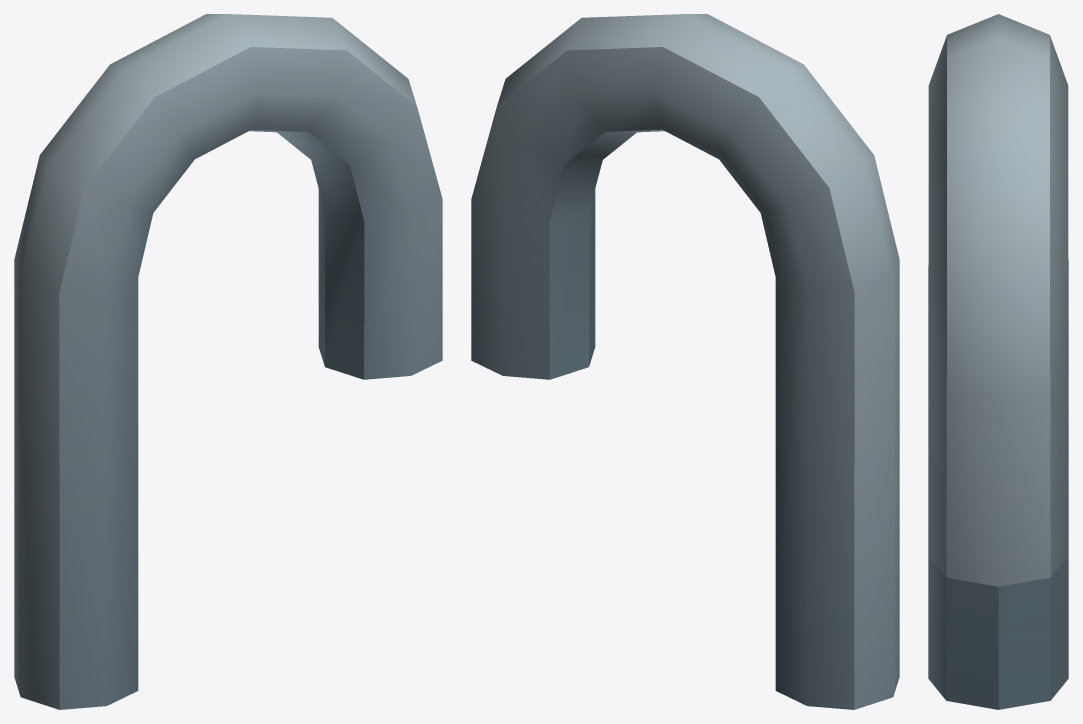
File: lock_C_part.obj
3 views of the same model, side by side, from view 1: azimuth 30°, elevation 25°; view 2: azimuth 150°, elevation 25°; view 3: azimuth 270°, elevation 25° (orthographic). The views are drawn at different scales.
Parts seen in each view (by area): view 1: lock_C_part; view 2: lock_C_part; view 3: lock_C_part.
Boxes of the visible parts, left/top/right/bottom form: lock_C_part: left=14, top=14, right=442, bottom=709; lock_C_part: left=471, top=14, right=899, bottom=709; lock_C_part: left=928, top=14, right=1068, bottom=709.
Bounding box in the file's own units: 0.504 × 0.7399 × 0.1283.
Materials: 1 (1 with a texture image).
